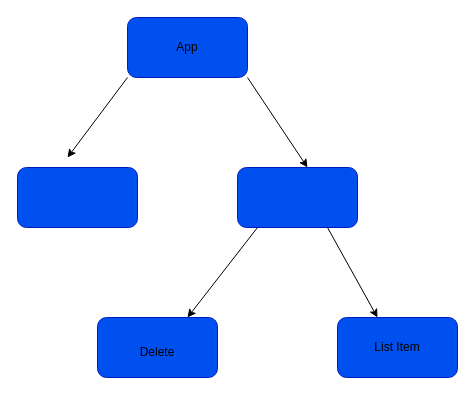
The diagram is 475 pixels wide and 395 high, and some of its shapes have lost their labels. Each missing label, with the box of its shape:
Input: (16, 166, 138, 228)
List: (236, 166, 358, 228)
